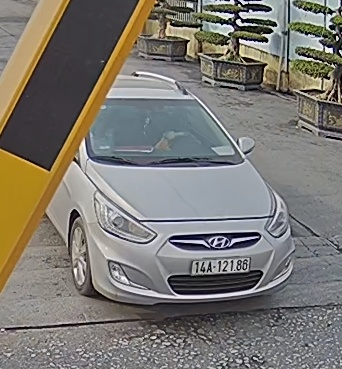vehicle plate: (190, 258, 255, 274)
